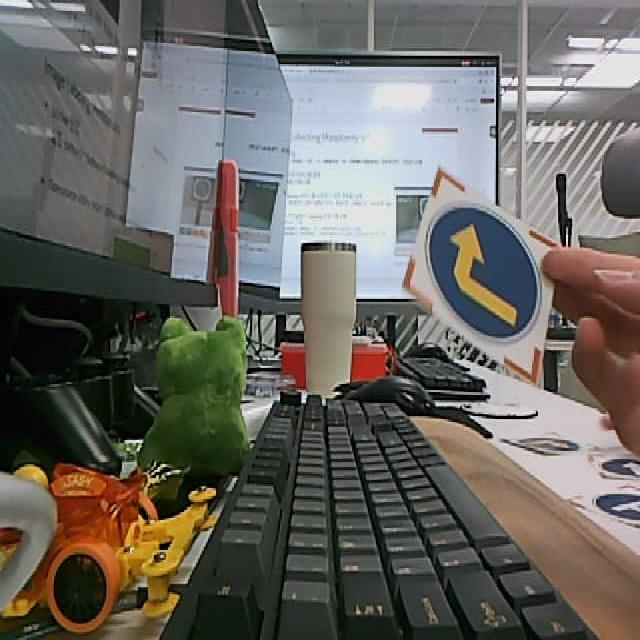turn: (404, 169, 564, 384)
